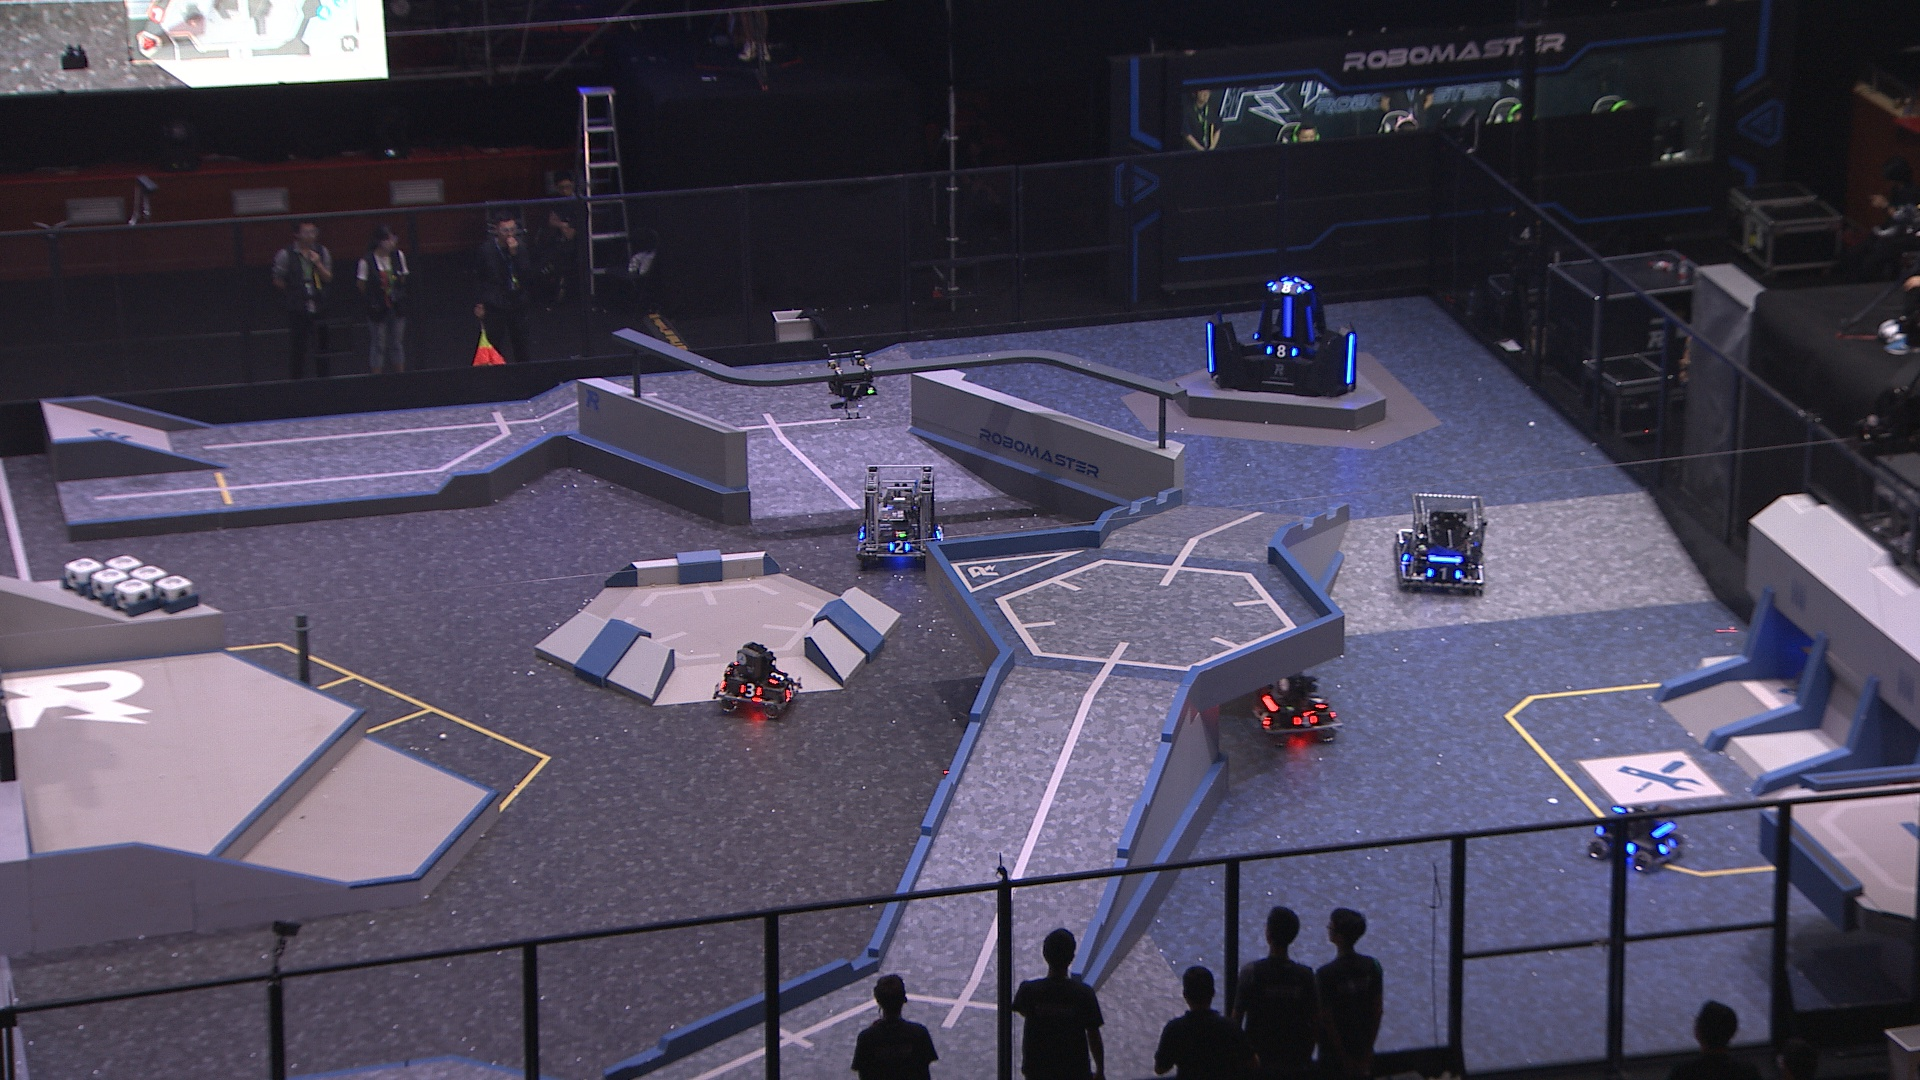armor: (1280, 295, 1299, 343), (1342, 332, 1358, 385), (1427, 564, 1466, 585), (1204, 320, 1218, 377), (1262, 342, 1302, 360), (837, 382, 874, 400), (1254, 703, 1275, 731), (1273, 278, 1305, 295), (736, 680, 764, 700), (1396, 535, 1414, 564), (884, 537, 910, 555), (1309, 690, 1331, 712), (1288, 711, 1317, 727), (1654, 836, 1677, 855), (766, 669, 787, 688), (1305, 305, 1316, 342), (1292, 273, 1311, 291), (782, 680, 798, 702), (856, 520, 869, 541)
base: (1199, 272, 1362, 400)
car: (851, 462, 949, 567), (1391, 491, 1487, 597), (711, 640, 806, 723), (1250, 669, 1340, 746), (1586, 800, 1683, 872)
watcher: (820, 342, 880, 423)
